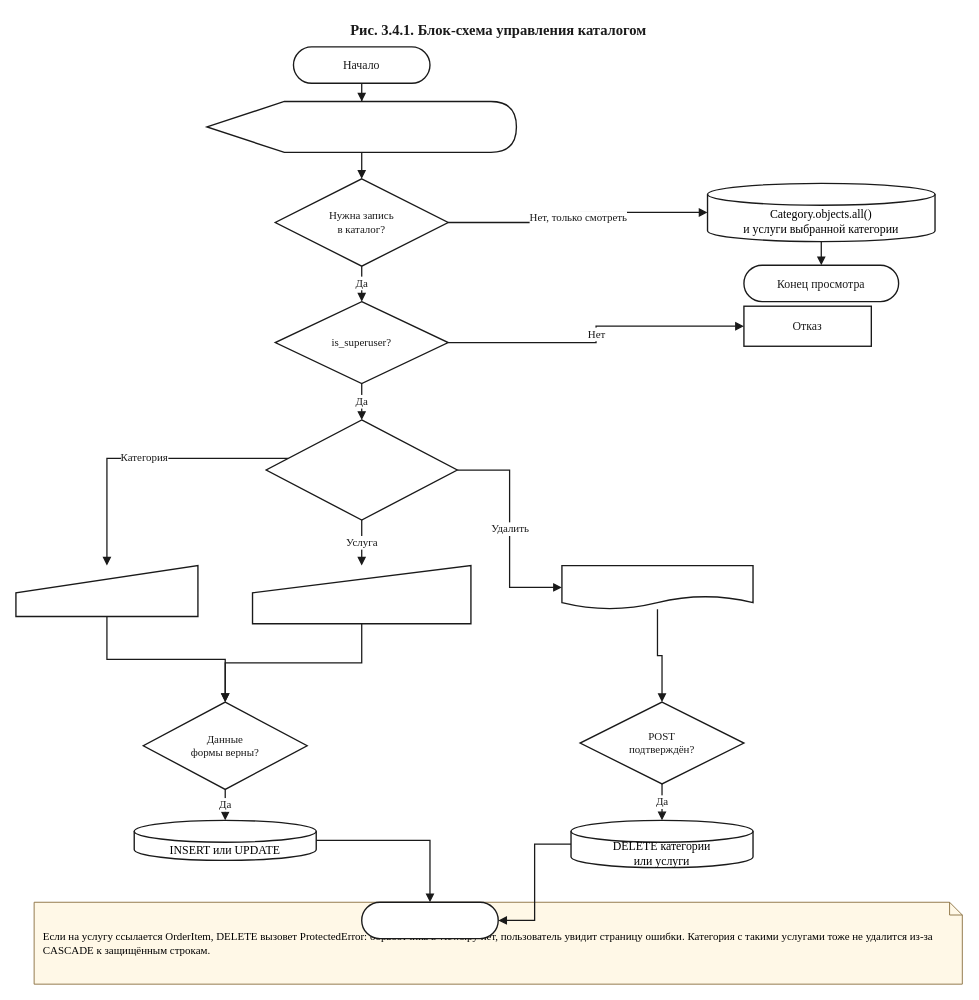
Image size: 979x1000. Some labels were removed from this diagram. Here are the shapes that lost their labels. From the top down, the box of each, then its label:
(206, 100, 517, 153): Страница «Управление каталогом» или публичный просмотр
(265, 419, 458, 520): Объект и действие?
(15, 564, 198, 617): Форма категории: имя и описание
(251, 564, 471, 624): Форма услуги: имя, тексты, цена, файл, категория
(561, 564, 753, 610): Подтверждение удаления
(361, 901, 498, 939): Конец
